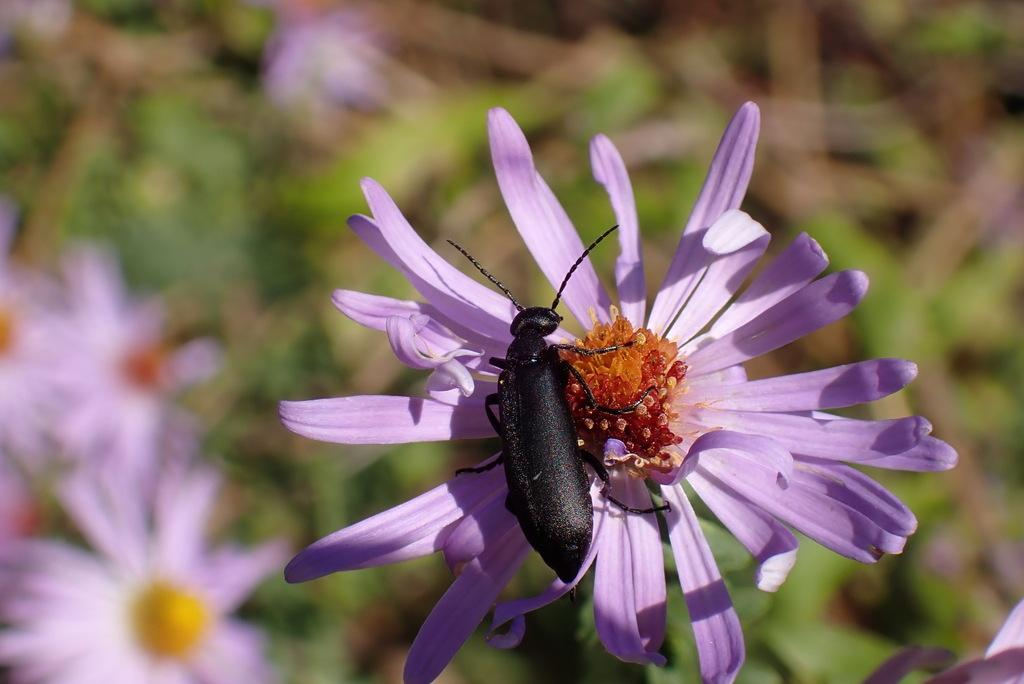blister_beetle: (396, 207, 705, 620)
